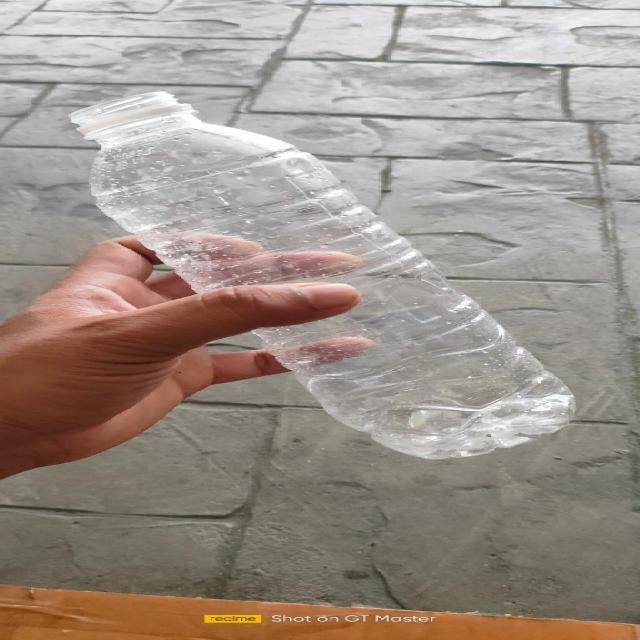plastic_bottle: (72, 91, 578, 459)
